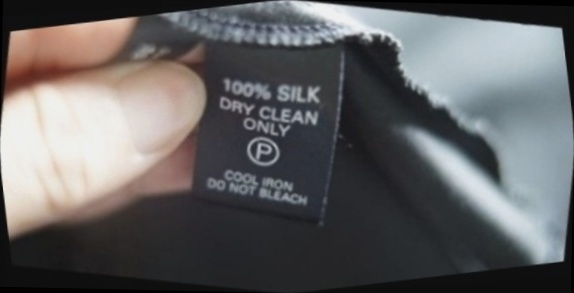dry_clean_any_solvent_except_trichloroethylene: (238, 125, 291, 176)
